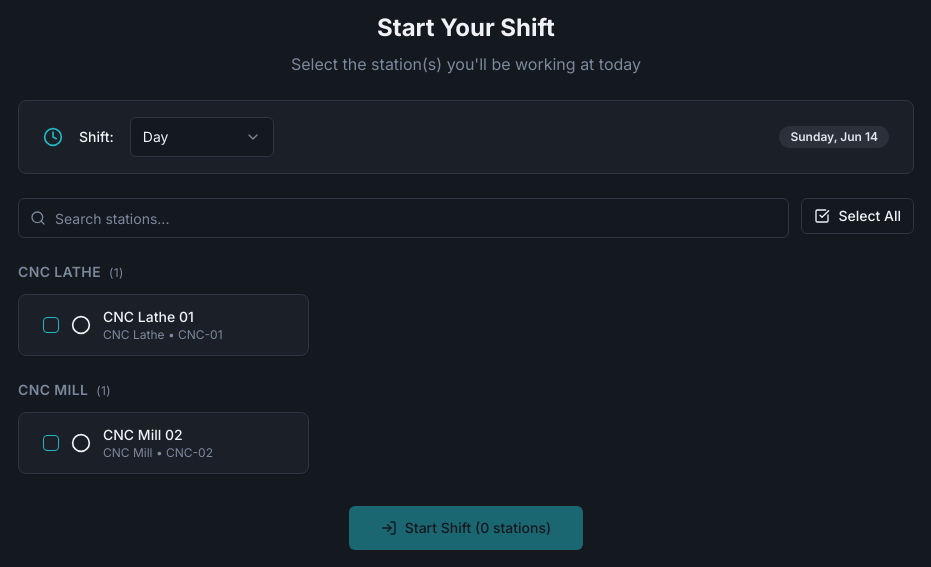
Scenario: StationCheckIn › enables start button when stations are selected
Click the checkbox "CNC Lathe 01": (163, 325) [18,294,309,356]
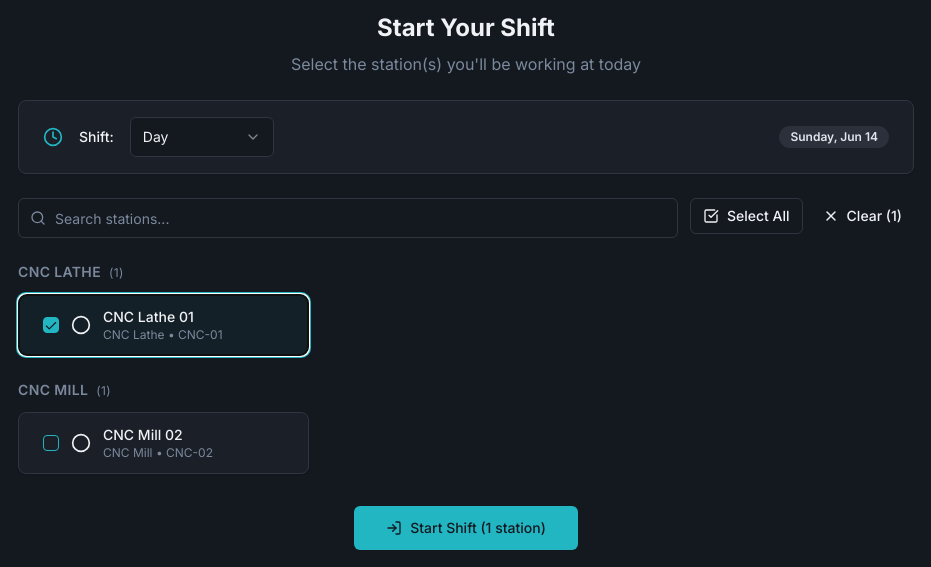
Now the button "Start Shift (1 station)" is enabled, box [354,506,578,550]
